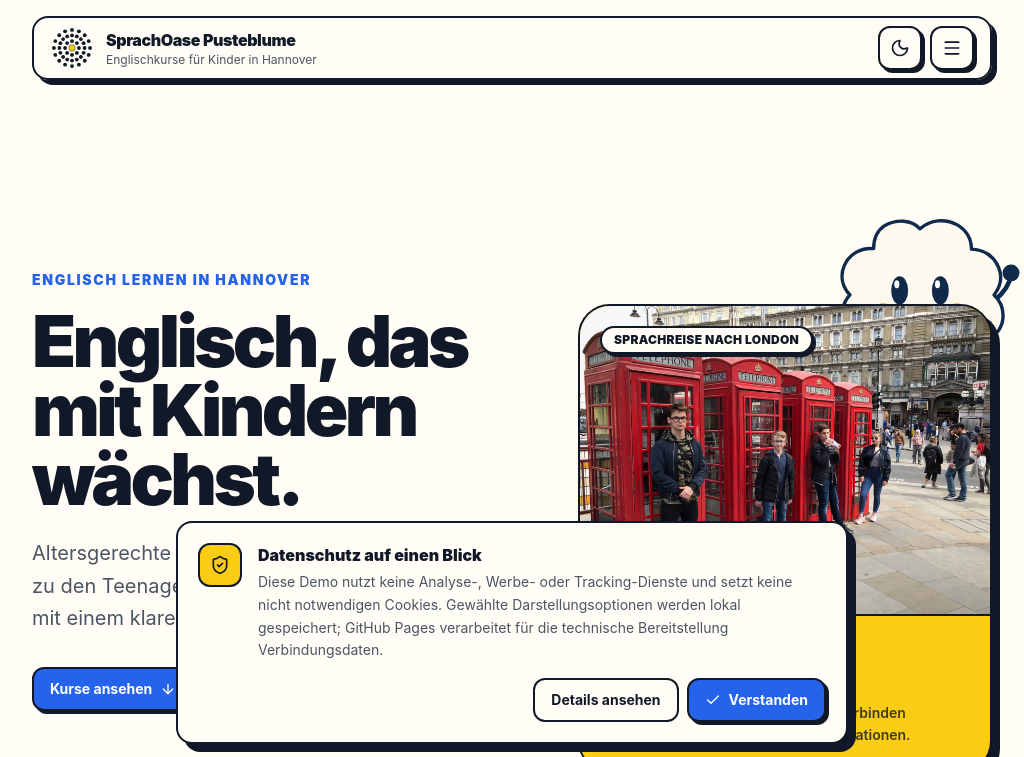
Scenario: App › opens the mobile navigation and closes it after selecting a section
Click the button named "Menü öffnen".
click(952, 48)  # box [930,26,974,70]
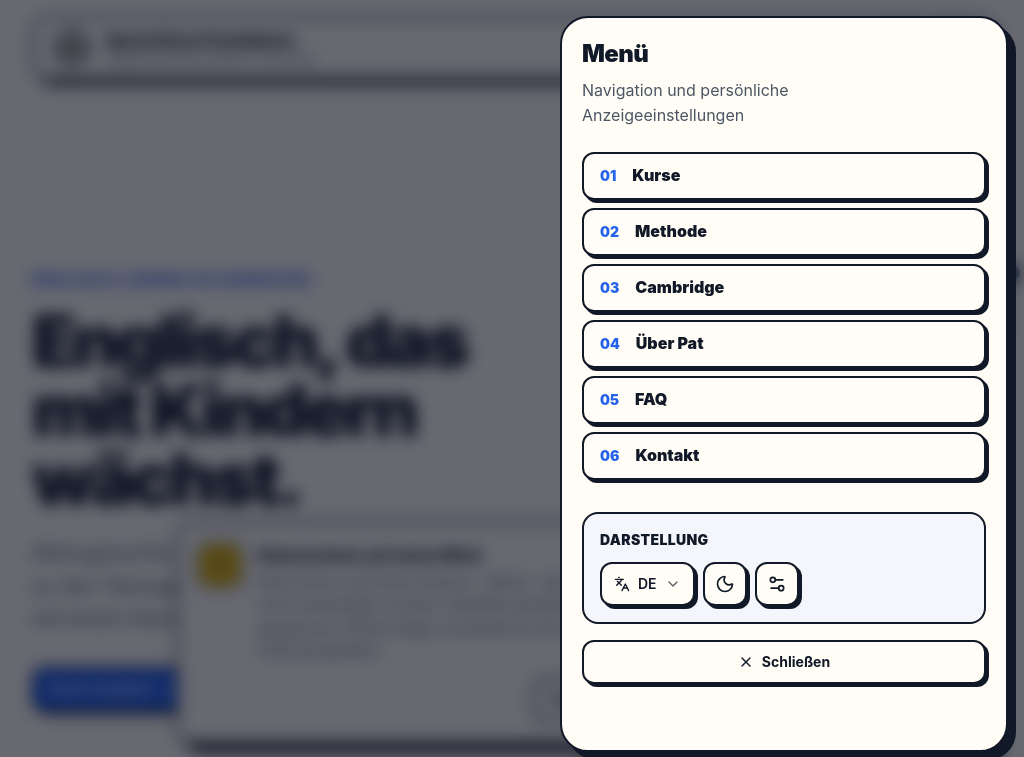
Click the link "01 Kurse".
click(656, 175)  # box [582,152,986,200]
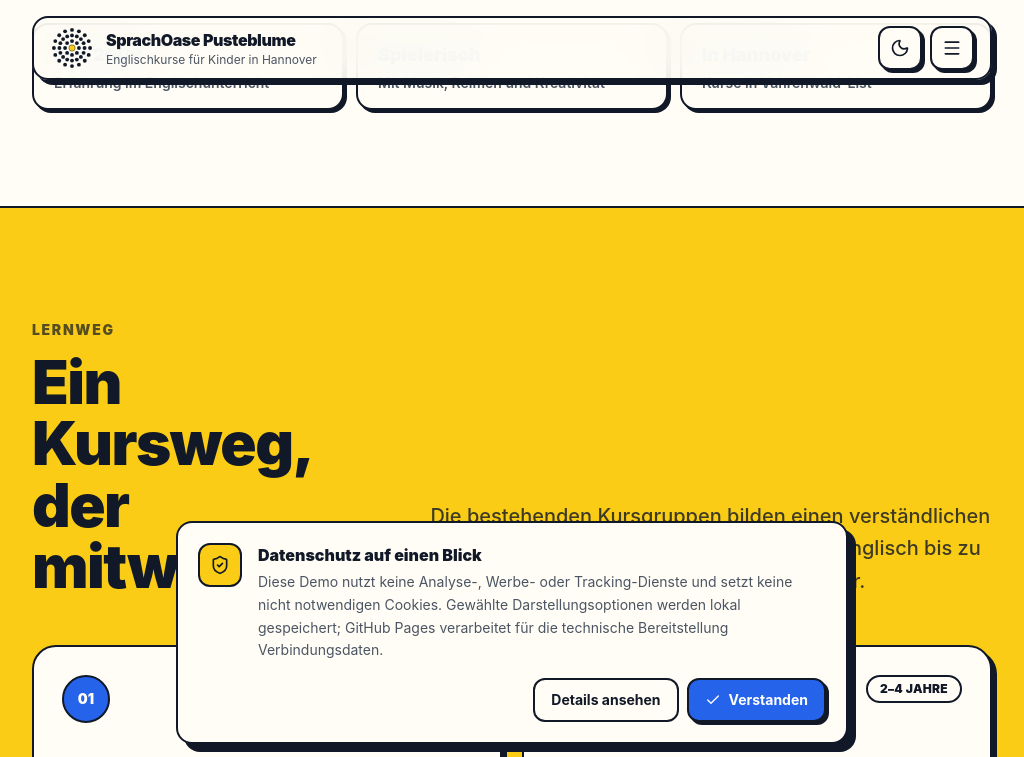
Result: the heading "Menü" is gone
